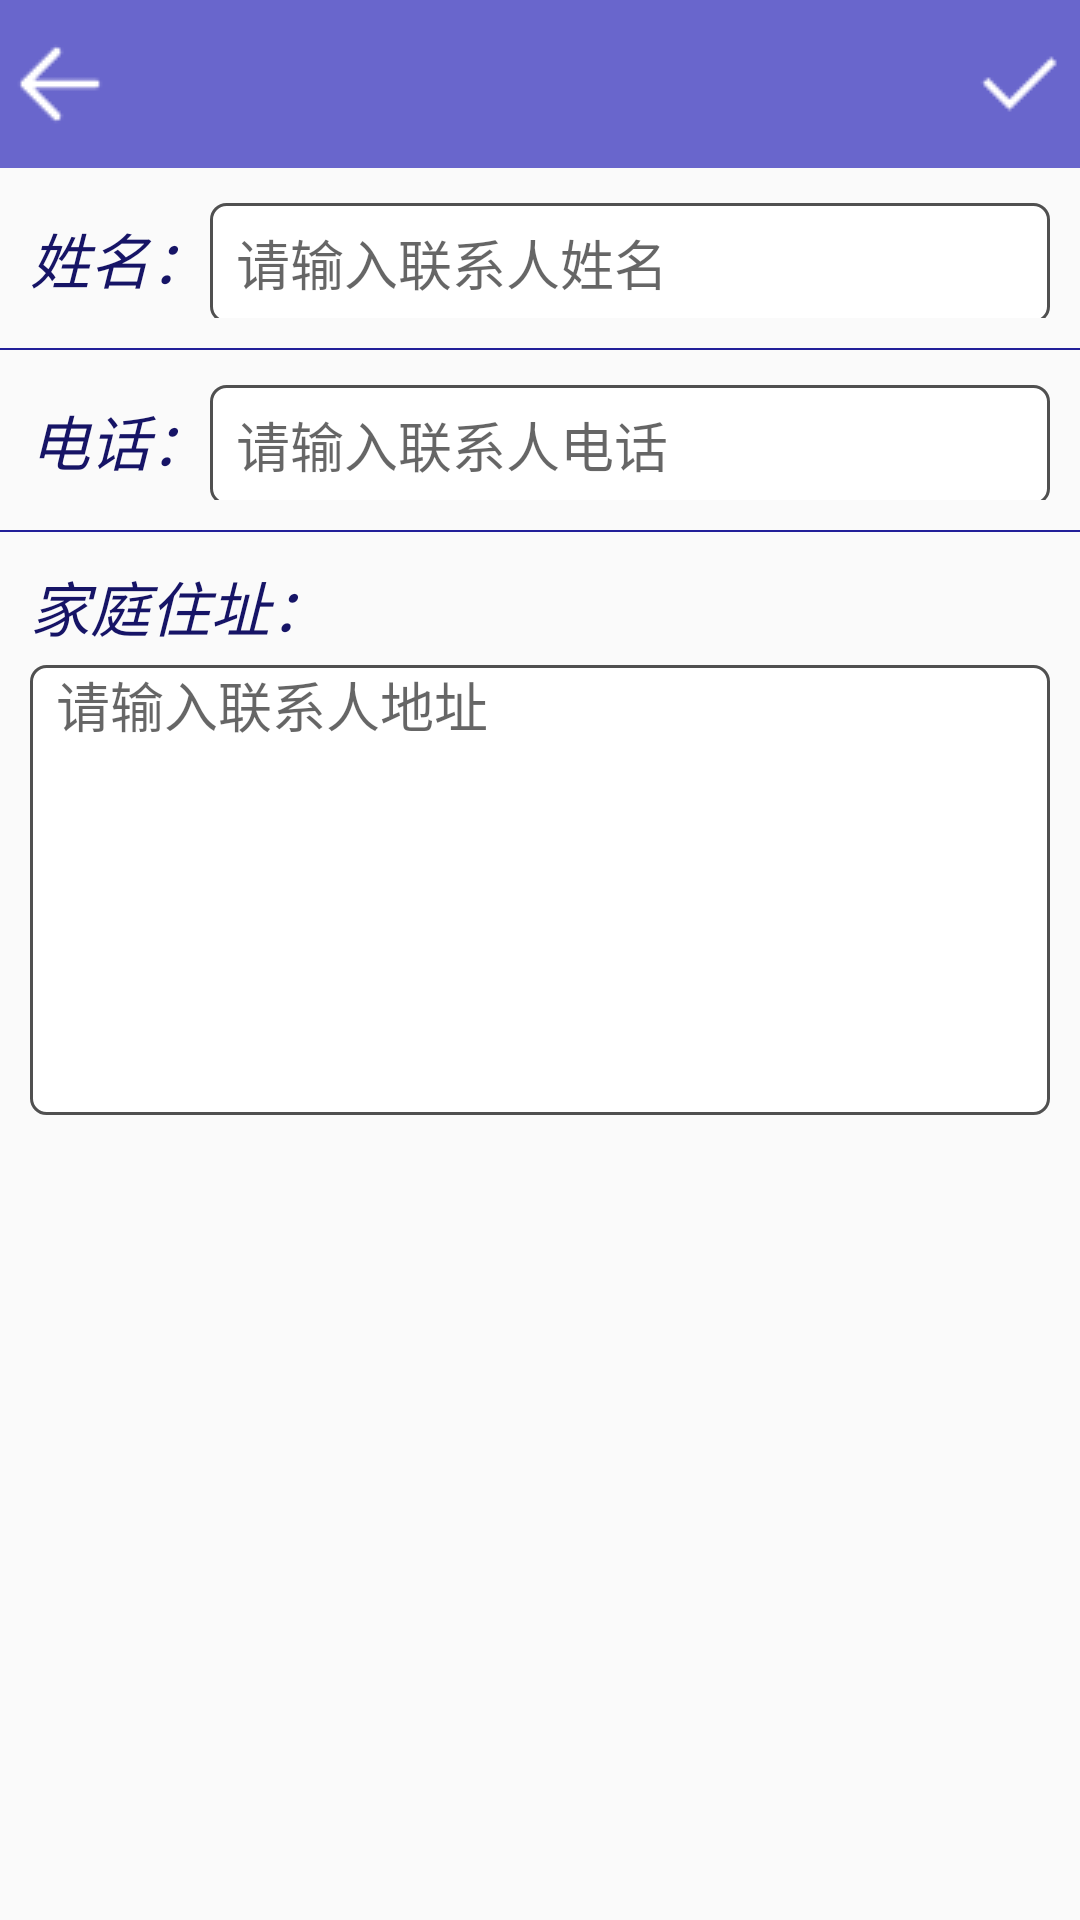

Screen size 1080 × 1920. Icon name, then its box in pixels as (x1, y1, x2, y2):
back: (20, 47, 100, 121)
save: (983, 56, 1057, 111)
